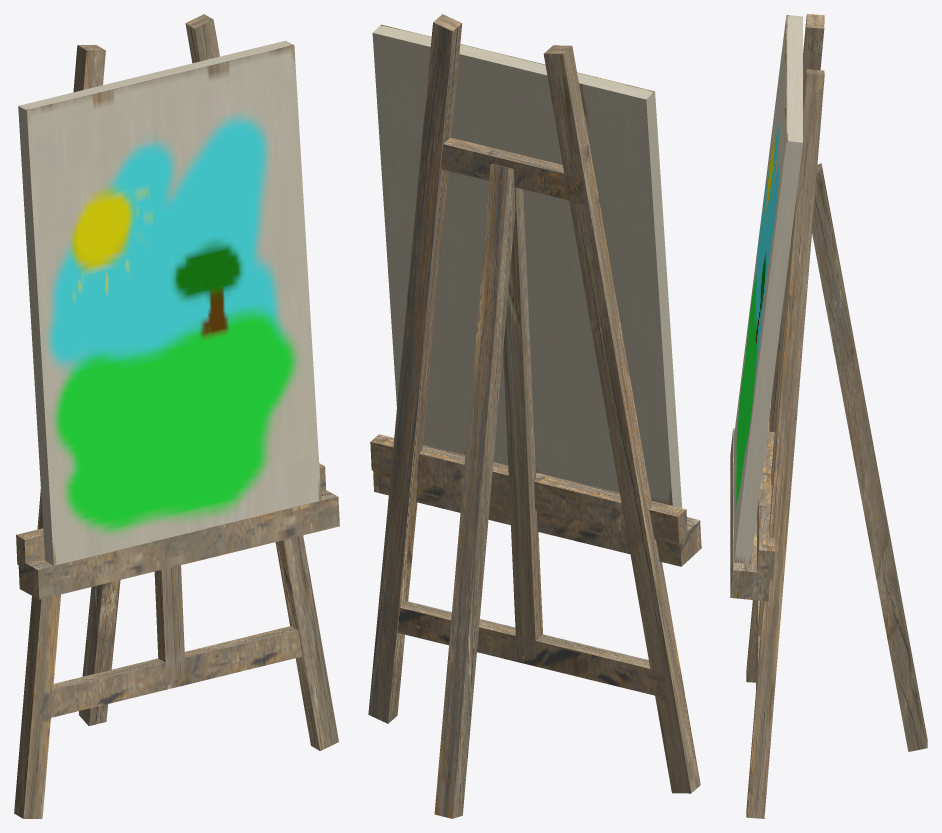
The model's file is easel.fbx.
3 views of the same model, side by side, from view 1: azimuth 30°, elevation 25°; view 2: azimuth 150°, elevation 25°; view 3: azimuth 270°, elevation 25° (orthographic). The views are drawn at different scales.
Visible parts, largest first — view 1: easellow; view 2: easellow; view 3: easellow.
Part boxes in pixels (x1,y1,x2,y2): easellow: (14,14,339,818); easellow: (368,14,701,818); easellow: (730,14,927,818).
Bounding box in the file's own units: 0.2431 × 0.1361 × 0.5361.
1 material, 1 textured.
